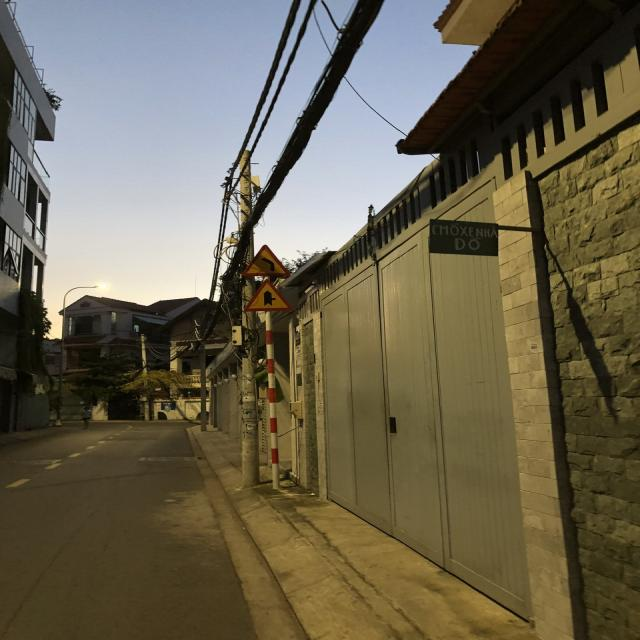Bien bao cho ngoat nguy hiem: (239, 243, 290, 277)
Bien bao giao nhau voi duong khong uu tien: (242, 278, 299, 315)
